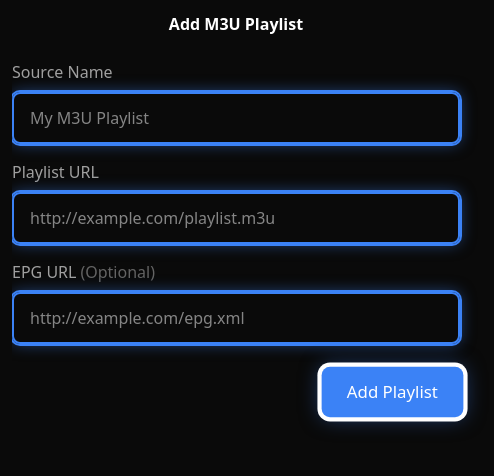
Test: M3UUrlForm › validation › shows error when EPG URL is provided but invalid
Type "Test" into the field with test id "m3u-name-input" at (236, 118), box [12,92,460,144]
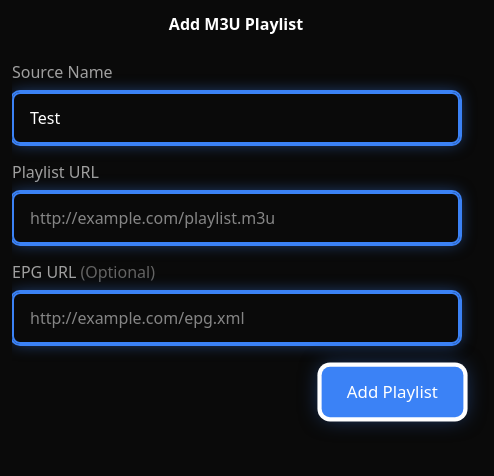
Type "http://test.com/playlist.m3u" into the field with test id "m3u-playlist-input" at (236, 218), box [12,192,460,244]
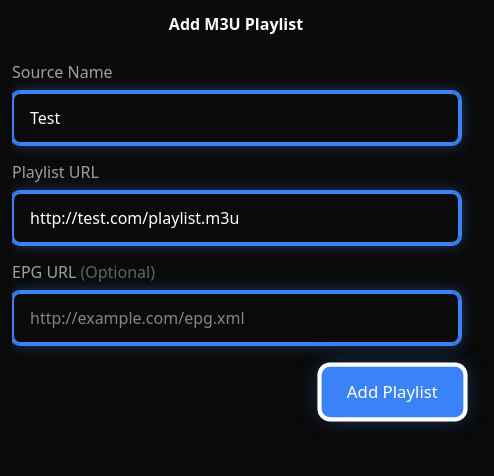
Type "invalid-url" into the field with test id "m3u-epg-input" at (236, 318), box [12,292,460,344]
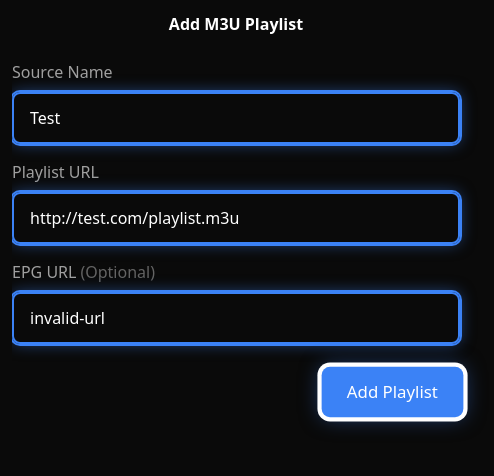
Click the button "Add Playlist" at (393, 392), box [322,367,463,417]
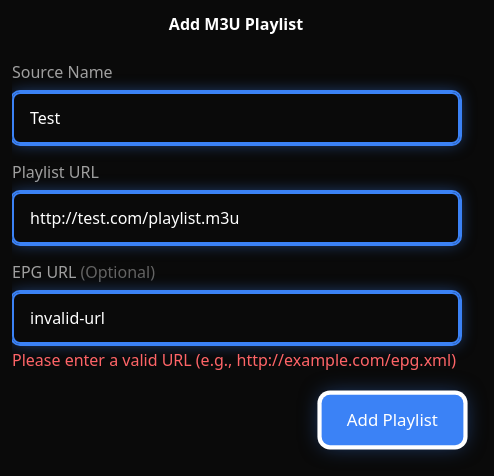
Now the text "Please enter a valid URL (e.g., http://example.com/epg.xml)" is shown, box [12,348,460,372]
